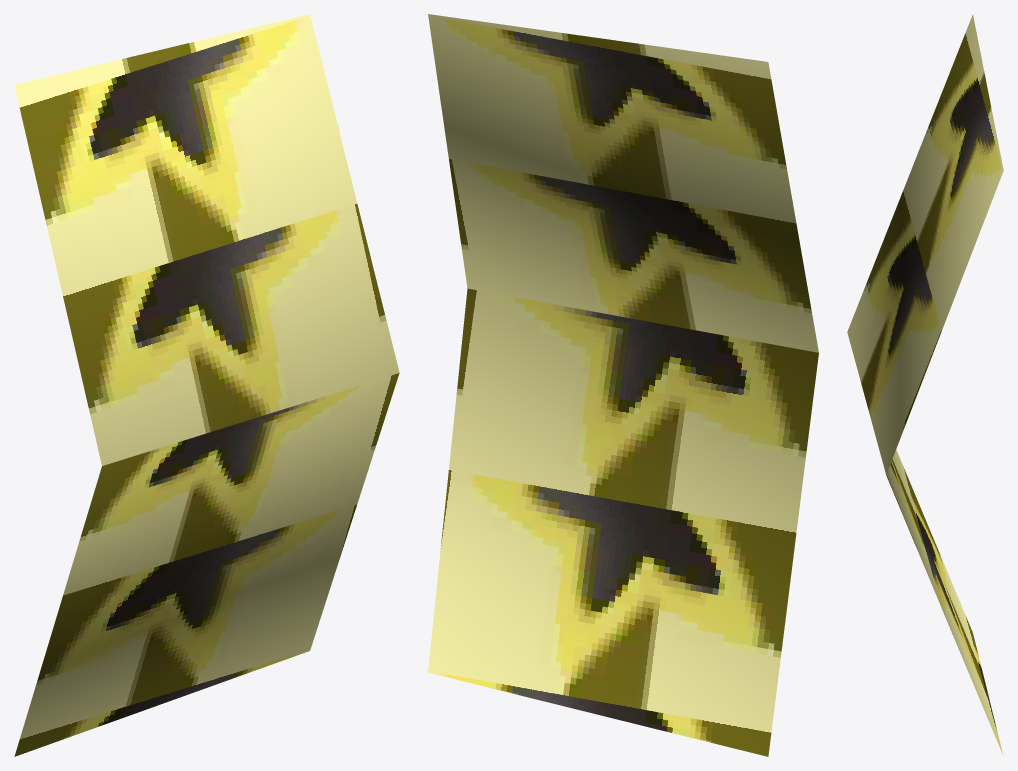
Rendered from acc_shade_star.dae.
3 views of the same model, side by side, from view 1: azimuth 30°, elevation 25°; view 2: azimuth 150°, elevation 25°; view 3: azimuth 270°, elevation 25° (orthographic). The views are drawn at different scales.
Parts seen in each view (by area): view 1: acc_shade_star; view 2: acc_shade_star; view 3: acc_shade_star.
Part boxes in pixels (bbox=[...]): acc_shade_star: bbox=[14, 14, 399, 756]; acc_shade_star: bbox=[428, 14, 818, 756]; acc_shade_star: bbox=[847, 14, 1003, 755].
Bounding box in the file's own units: 11.02 × 20.93 × 4.8.
1 material, 1 textured.
